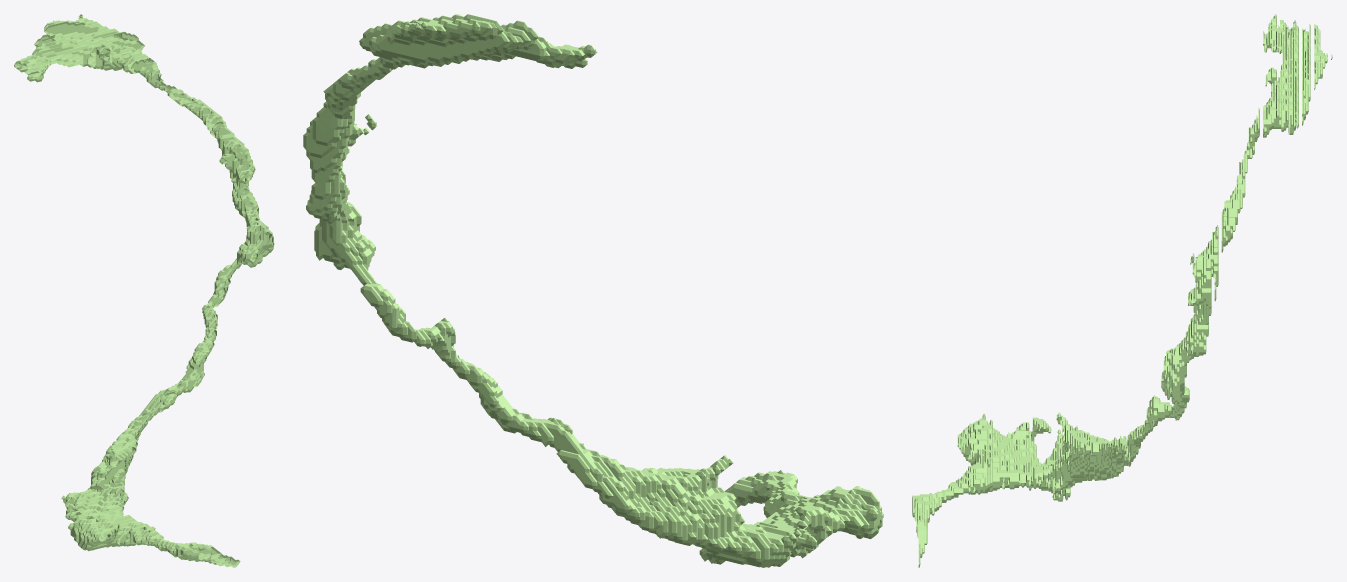
The model's file is SVV_AIZR.gltf.
3 views of the same model, side by side, from view 1: azimuth 30°, elevation 25°; view 2: azimuth 150°, elevation 25°; view 3: azimuth 270°, elevation 25° (orthographic). The views are drawn at different scales.
Visible parts, largest first — view 1: AIZR; view 2: AIZR; view 3: AIZR.
Part boxes in pixels (x1,y1,x2,y2): AIZR: (14, 14, 274, 567); AIZR: (303, 14, 883, 567); AIZR: (912, 14, 1332, 567).
Bounding box in the file's own units: 62477 × 92207 × 66576.
